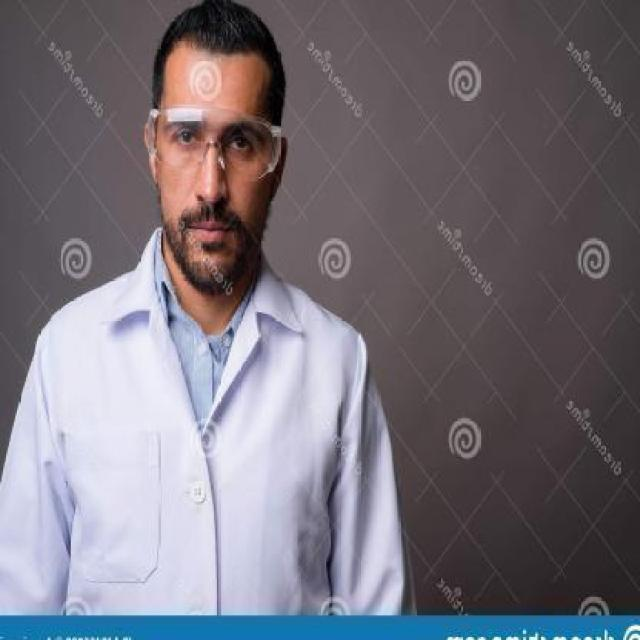face_nomask: (157, 115, 271, 253)
glasses: (146, 102, 286, 184)
head_nohelmet: (149, 0, 286, 82)
person: (4, 0, 410, 618)
